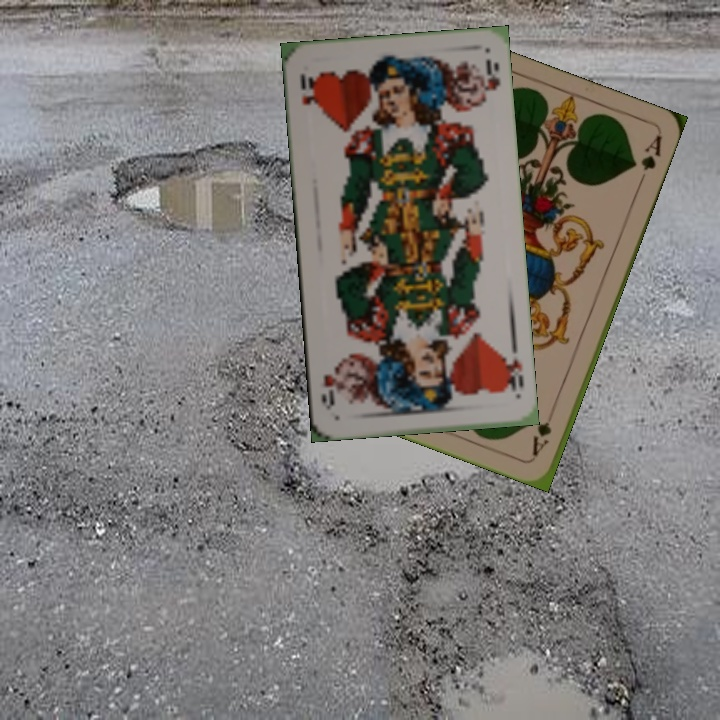GA: (528, 404, 558, 459)
HO: (498, 341, 526, 395), (296, 69, 319, 107)
